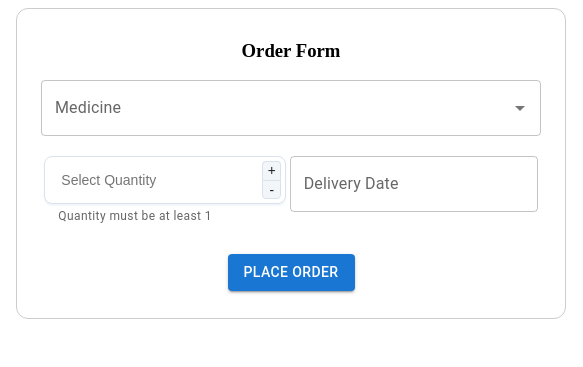
Test: OrderForm Component › should show errors if submission without data
Note: Click the submit button without filling the form
What coordinates should you click on to do the following:
click the button "Place Order"
I would click on:
 (291, 273)
Its box is [228,254,354,291].
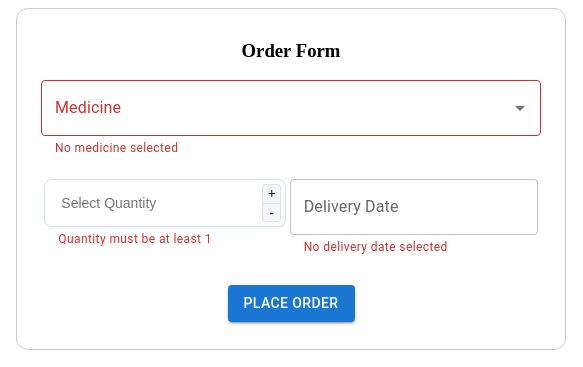
Result: the text "No medicine selected" is shown at [55,141,178,155]
Result: the text "No delivery date selected" is shown at [304,240,448,254]
